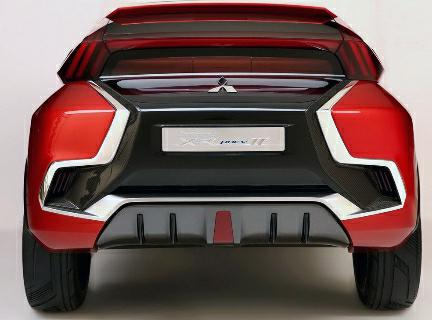三菱-XR-PHEV: (17, 2, 430, 320)
